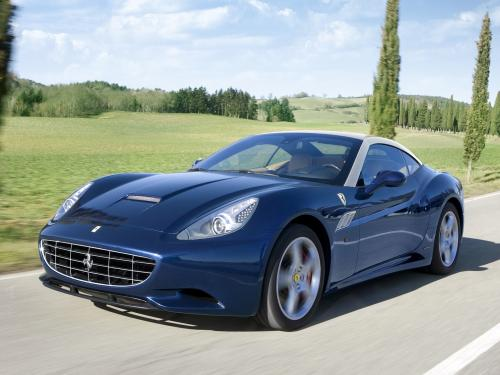car: (40, 121, 480, 328)
